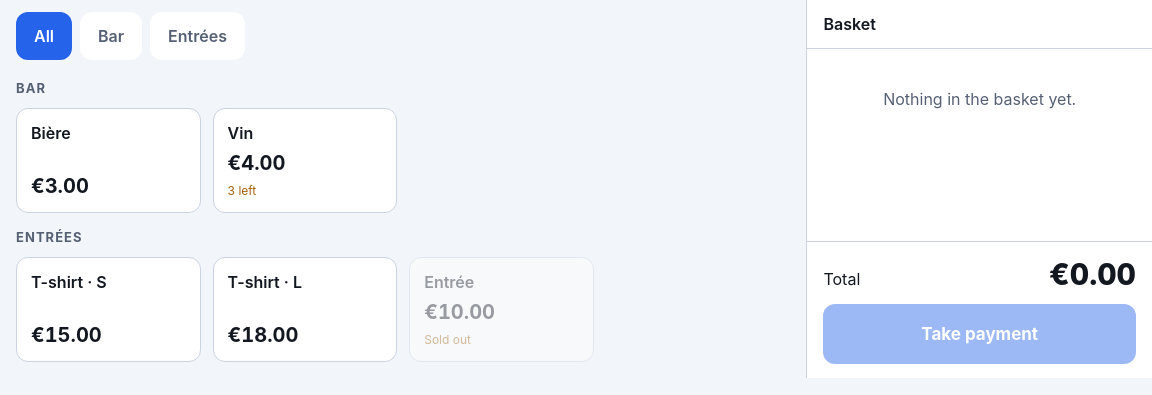
the categories › goes back to everything on the first tab
Click the tab "Bar" at (111, 36), box top-left (80, 12), bottom-right (142, 60)
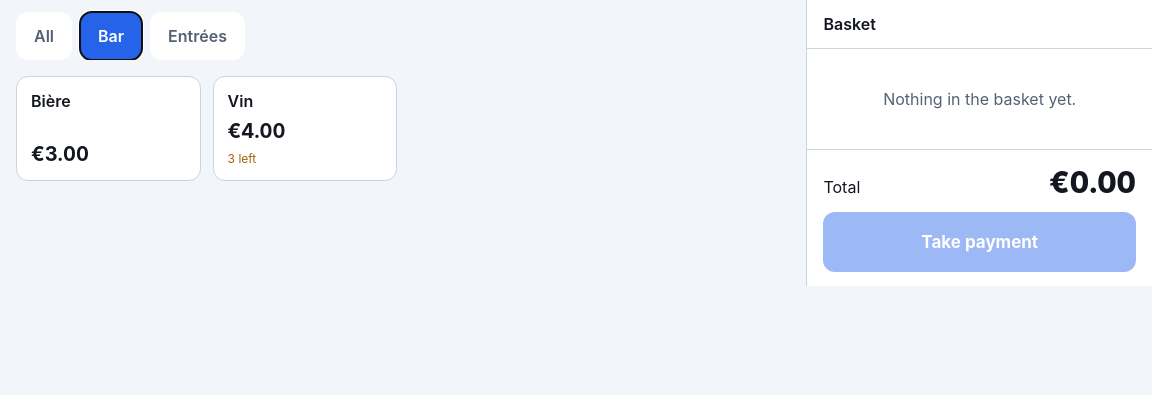
Click the tab "All" at (44, 36), box top-left (16, 12), bottom-right (72, 60)
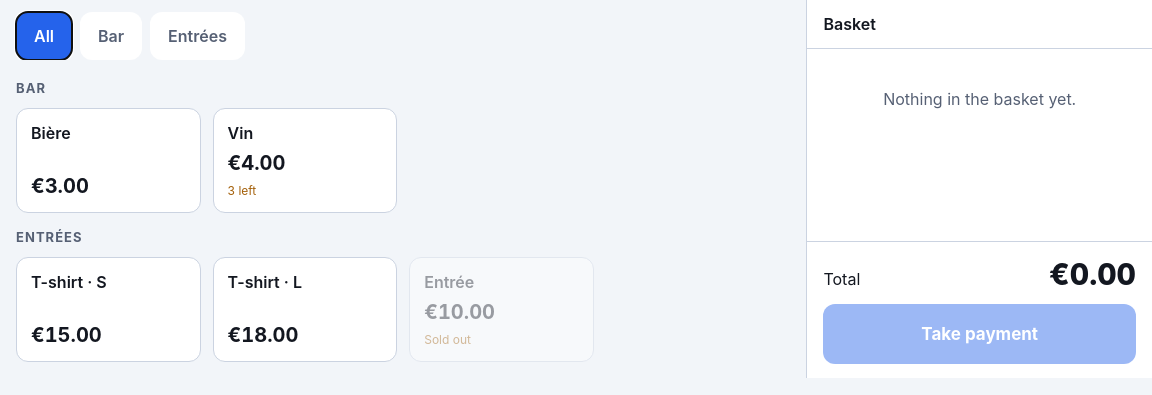
expect the button "T-shirt · S €15.00" is shown: met, box top-left (16, 257), bottom-right (201, 362)
